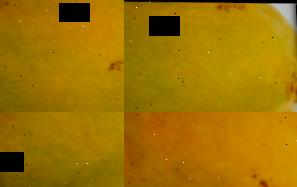PartiallyRipe: (124, 0, 297, 112), (0, 0, 124, 112), (0, 112, 124, 187)
Ripe: (124, 112, 297, 187)
